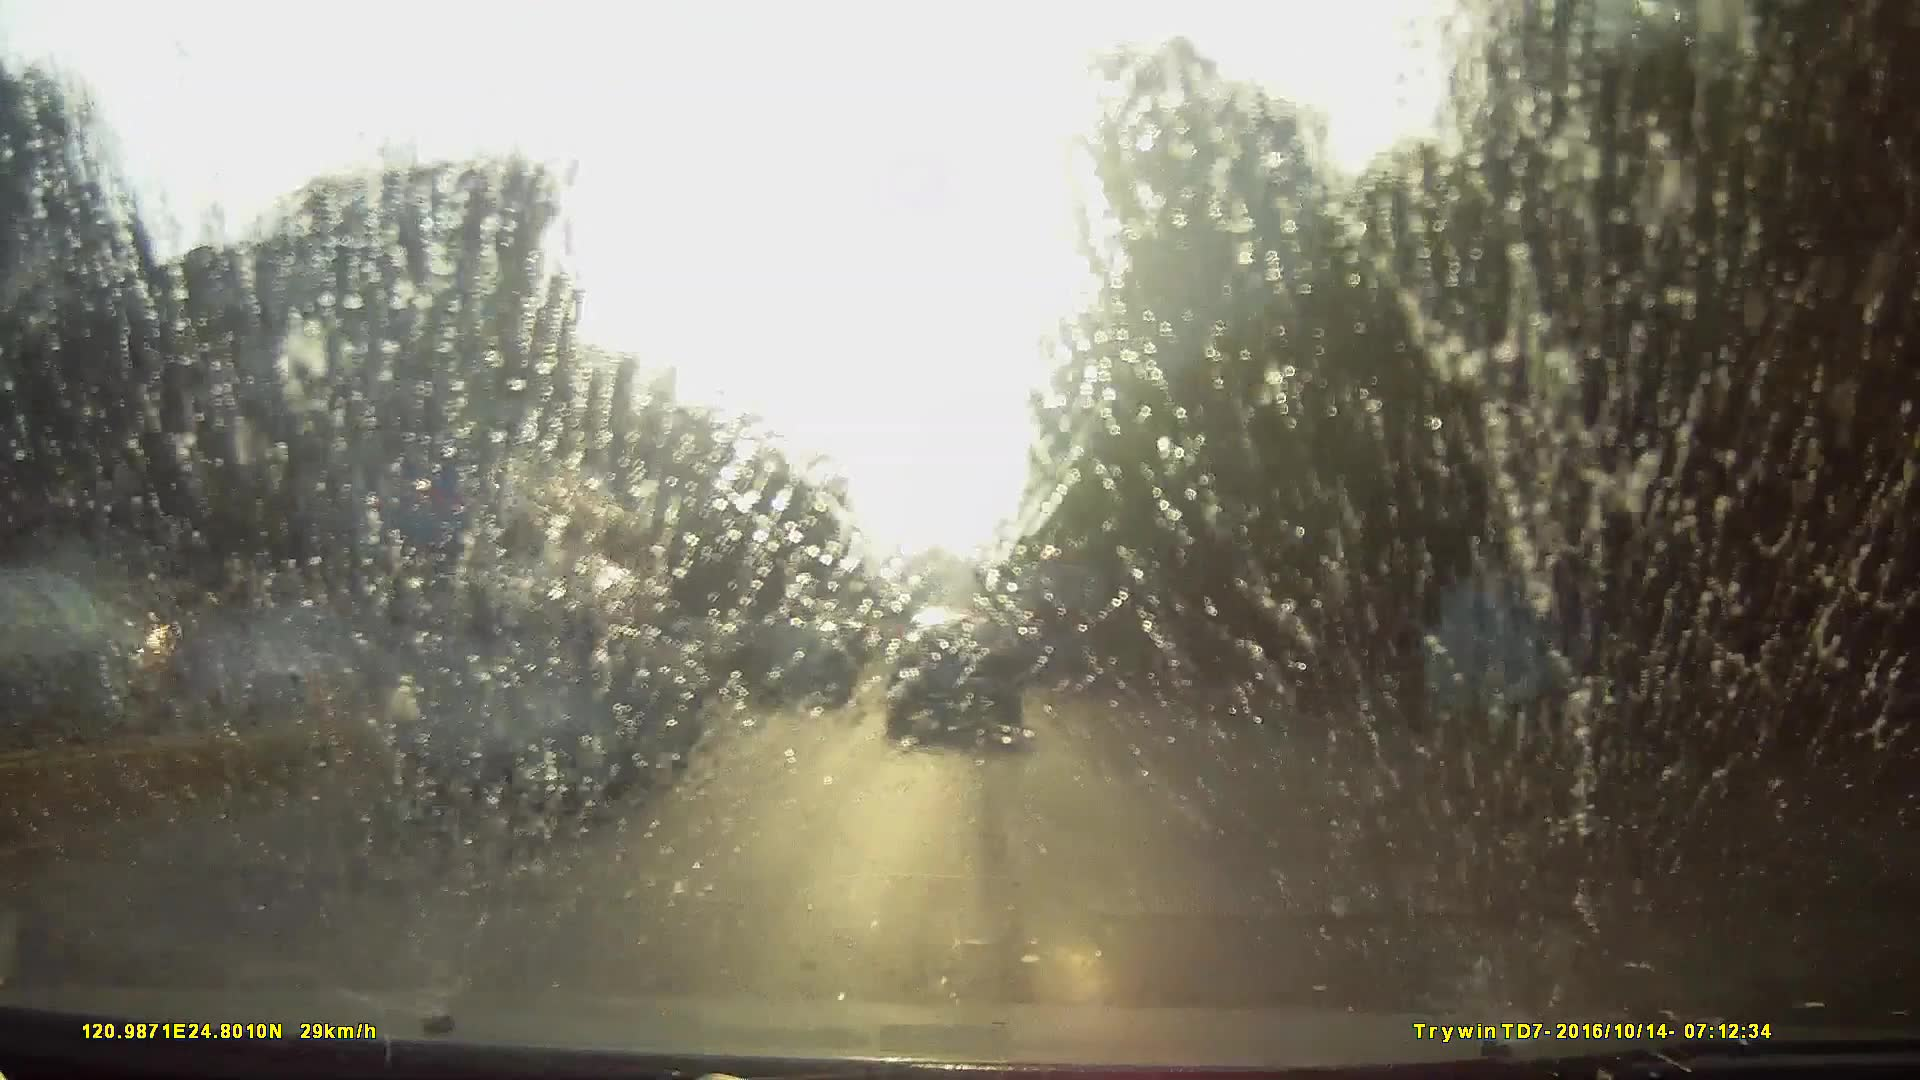vehicle: (251, 556, 684, 868), (269, 439, 669, 727), (398, 558, 705, 791), (886, 605, 1021, 744), (1002, 563, 1106, 688), (742, 621, 851, 707), (866, 638, 915, 687)
